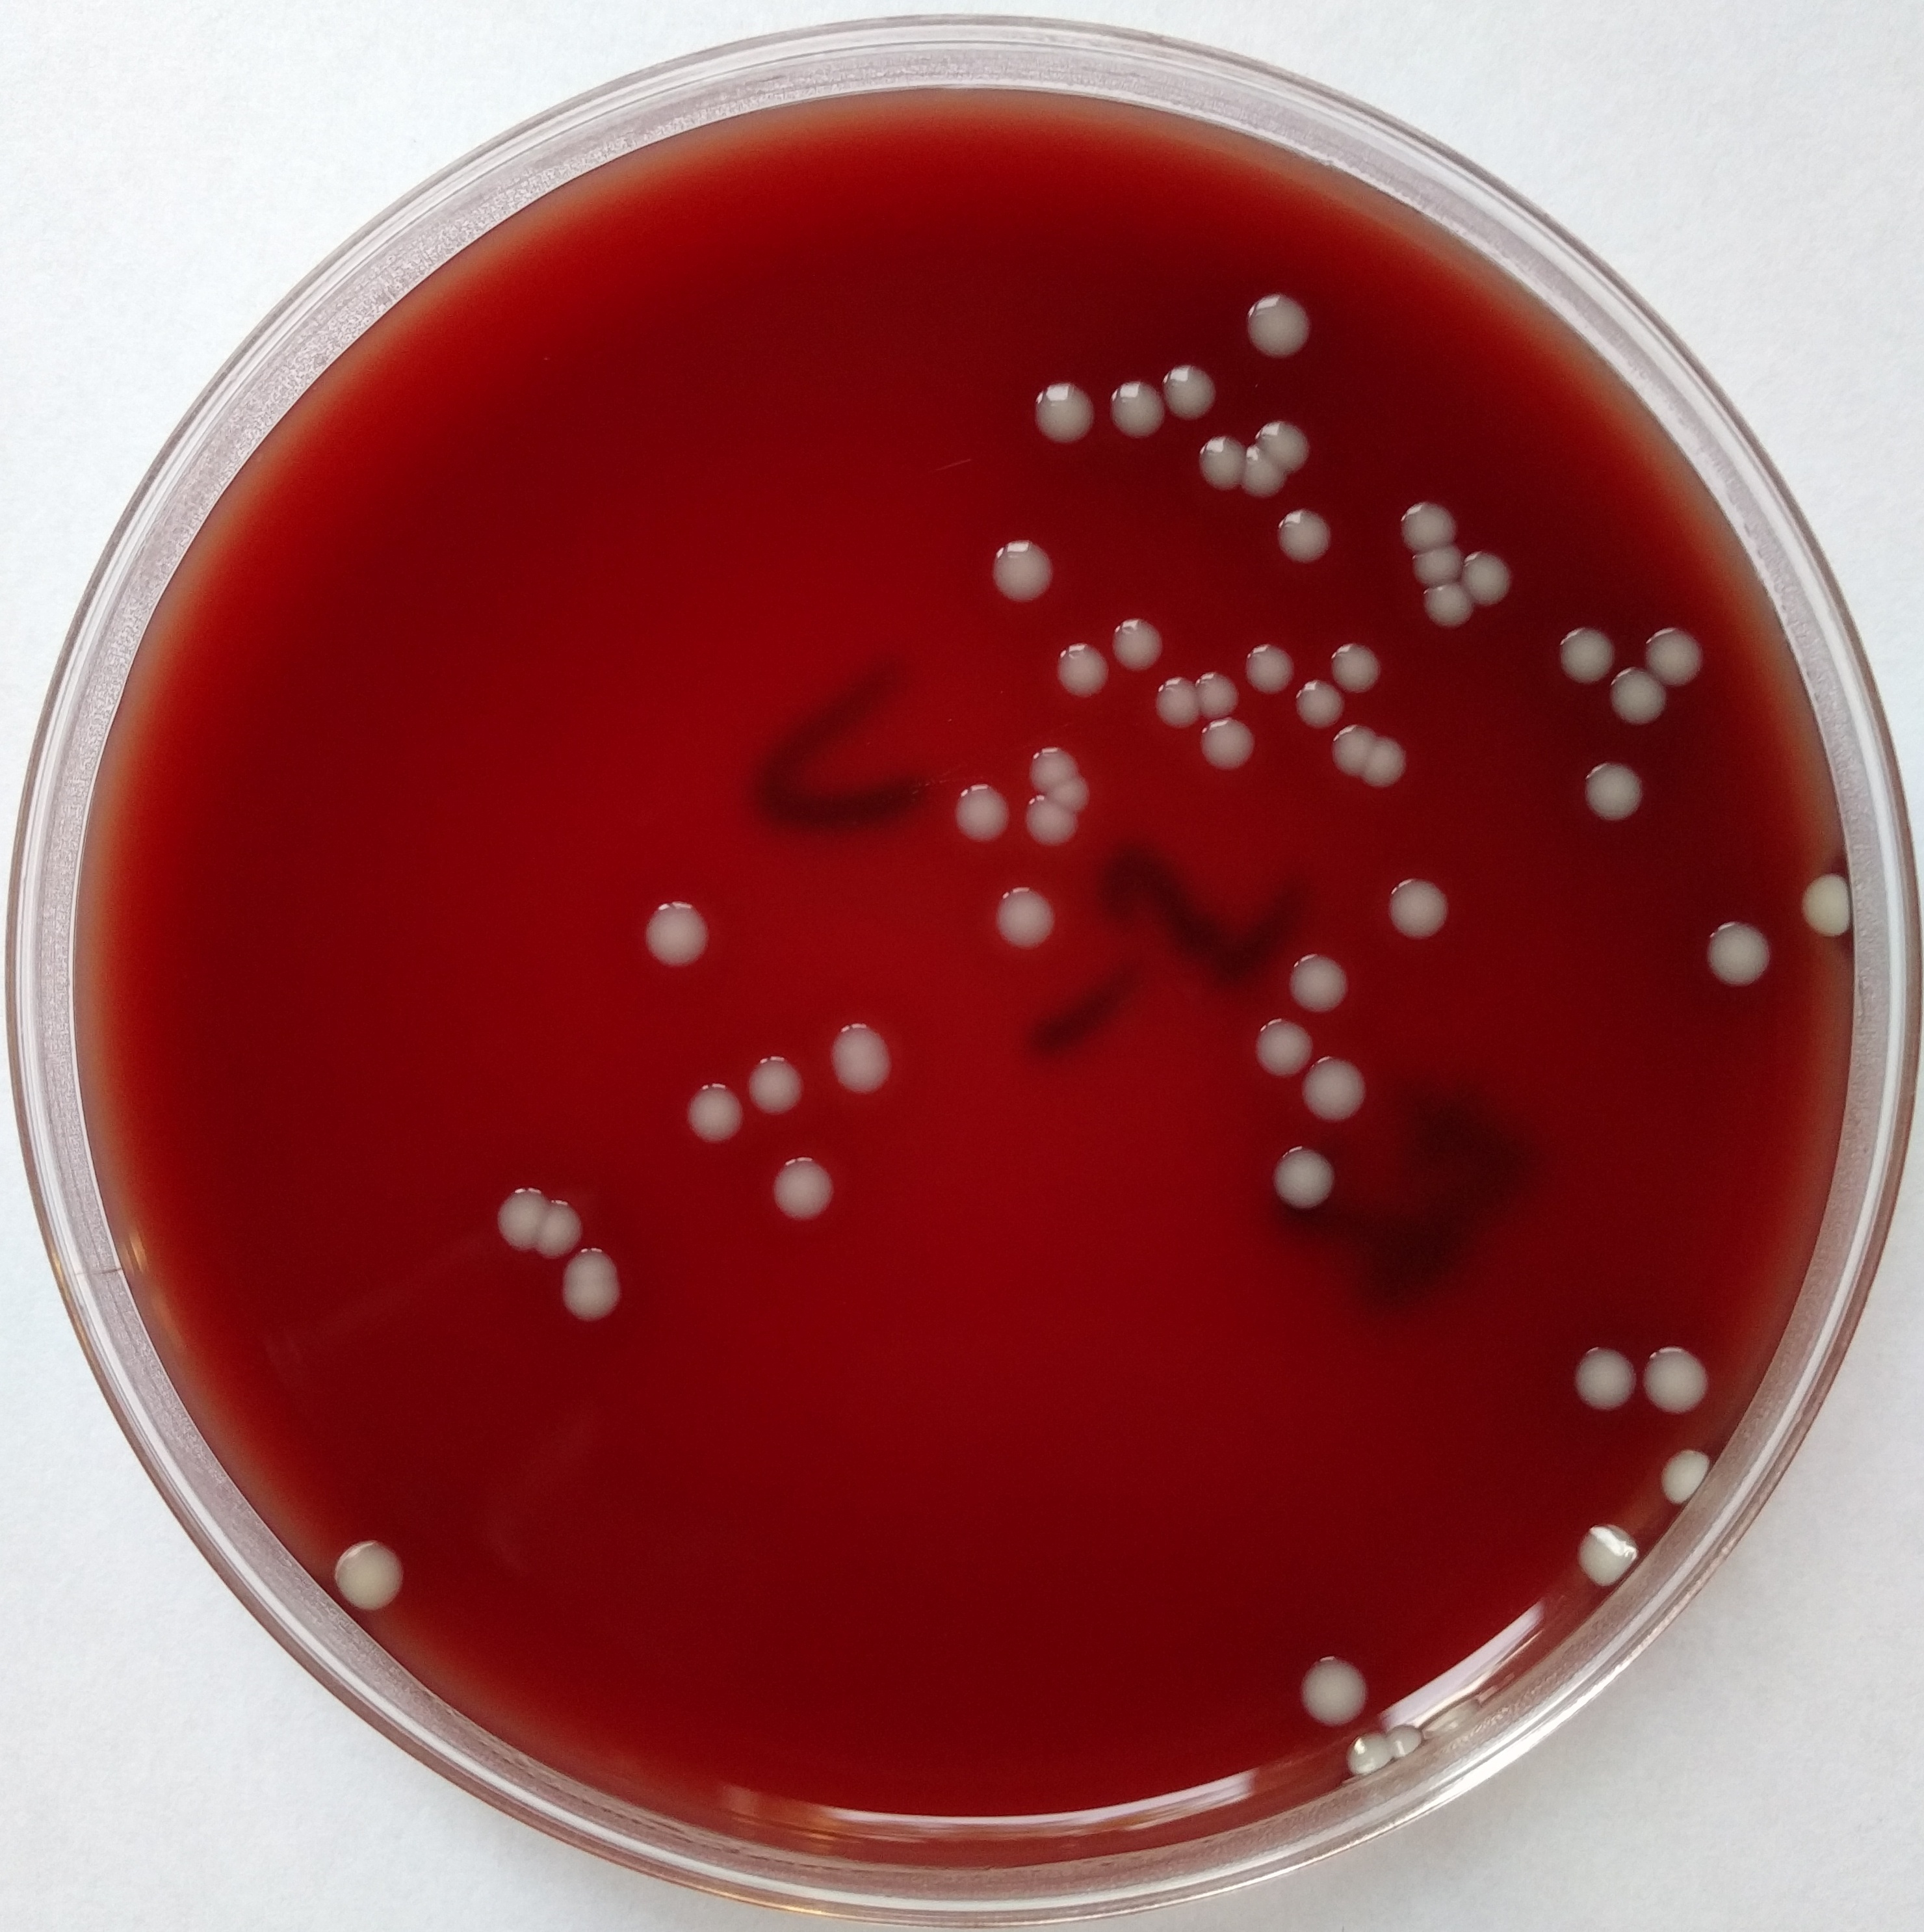sp01: (322, 1498, 419, 1639), (618, 876, 722, 980), (1672, 881, 1772, 989), (1004, 354, 1103, 462), (803, 1014, 907, 1114), (1247, 1125, 1357, 1216), (1295, 1631, 1399, 1726), (1639, 1322, 1725, 1435), (1552, 1331, 1644, 1430), (555, 1232, 638, 1340), (738, 1040, 818, 1144), (1286, 1044, 1381, 1130), (1235, 1010, 1327, 1093), (670, 1061, 749, 1156), (1376, 867, 1468, 947), (1277, 933, 1351, 1028), (768, 1151, 851, 1234), (983, 881, 1061, 968), (1240, 282, 1314, 368), (1565, 1514, 1644, 1594), (481, 1163, 546, 1259), (1582, 747, 1651, 836), (1801, 851, 1854, 964), (1106, 367, 1177, 450), (983, 534, 1066, 605), (1600, 658, 1677, 732), (1642, 606, 1707, 693), (537, 1172, 603, 1259), (1388, 487, 1468, 557), (1654, 1442, 1721, 1525), (1223, 439, 1288, 518), (1556, 606, 1621, 686), (1008, 795, 1099, 851), (1415, 564, 1492, 629), (1457, 531, 1515, 617), (1184, 705, 1254, 776), (1038, 624, 1103, 698), (1358, 723, 1432, 788), (1256, 397, 1314, 479), (1269, 504, 1336, 575), (944, 770, 1004, 848), (1286, 658, 1344, 737), (1022, 735, 1096, 797), (1110, 603, 1168, 680), (1411, 531, 1476, 596), (1184, 427, 1244, 497), (1163, 354, 1219, 428), (1244, 624, 1297, 698), (1316, 726, 1390, 779), (1145, 666, 1207, 728), (1038, 765, 1099, 823), (1188, 663, 1240, 728), (1334, 628, 1374, 702), (1341, 1729, 1392, 1787), (1392, 1710, 1424, 1770)
